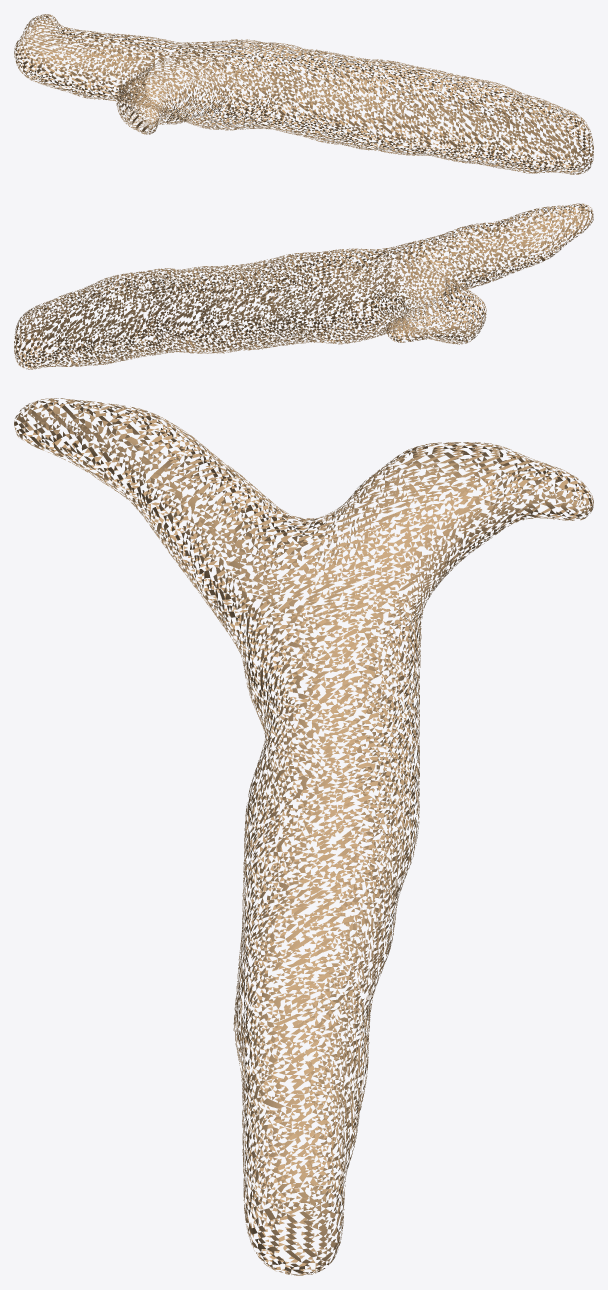
File: morph_006.glb
3 renders of one model, top to bottom at view 1: azimuth 30°, elevation 25°; view 2: azimuth 150°, elevation 25°; view 3: azimuth 270°, elevation 25°, orthographic. The views are drawn at different scales.
Bounding box in the file's own units: 127 × 56.2 × 67.25.
